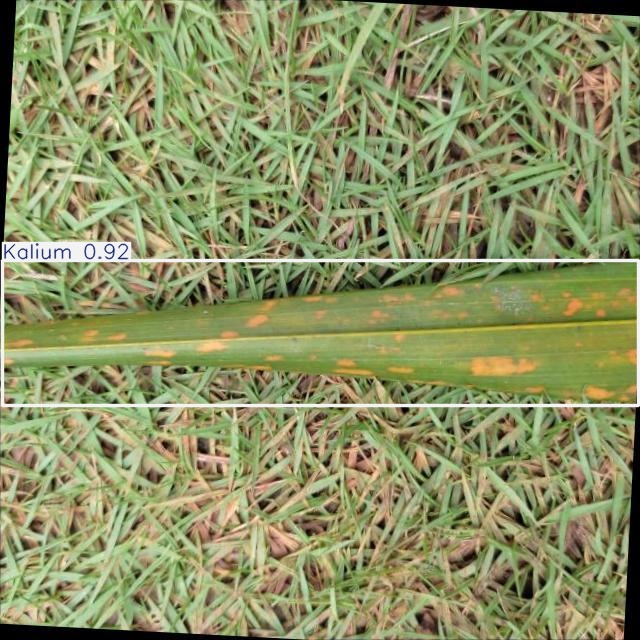Kalium: (2, 260, 639, 405)
